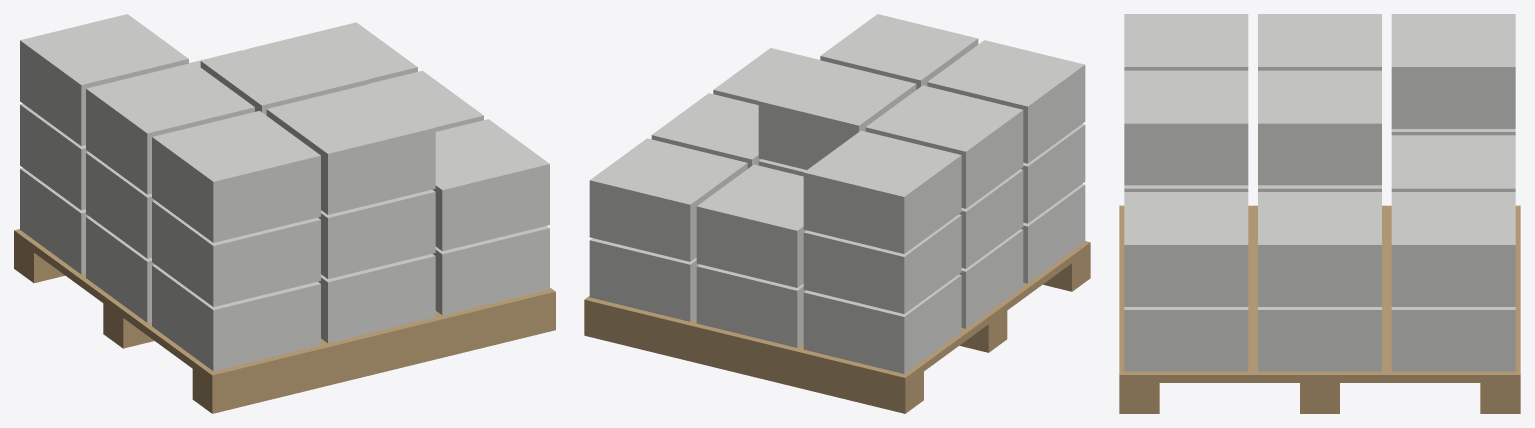
File: pallet_mp_23.glb
3 views of the same model, side by side, from view 1: azimuth 30°, elevation 25°; view 2: azimuth 150°, elevation 25°; view 3: azimuth 270°, elevation 25° (orthographic). The views are drawn at different scales.
Parts seen in each view (by area): view 1: PalletMP; view 2: PalletMP; view 3: PalletMP.
Boxes of the visible parts, <box> form: PalletMP: <box>14,14,555,413</box>; PalletMP: <box>584,14,1090,413</box>; PalletMP: <box>1119,14,1520,413</box>.
Bounding box in the file's own units: 1 × 0.6386 × 1.
